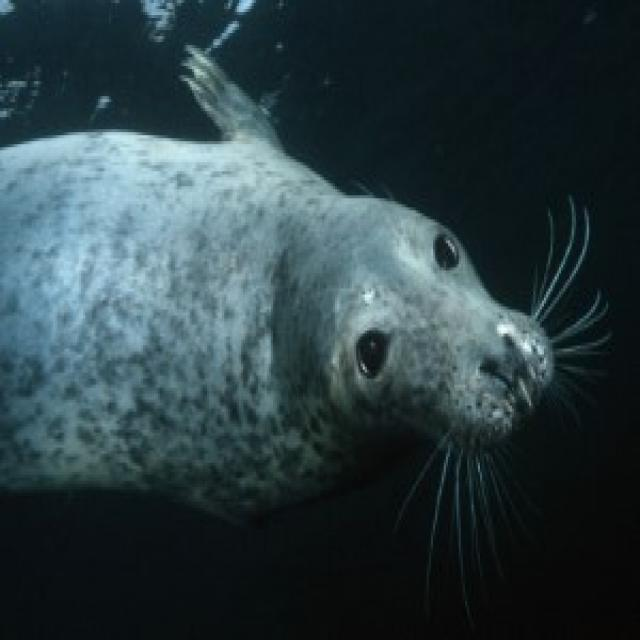Seal: (0, 118, 601, 503)
